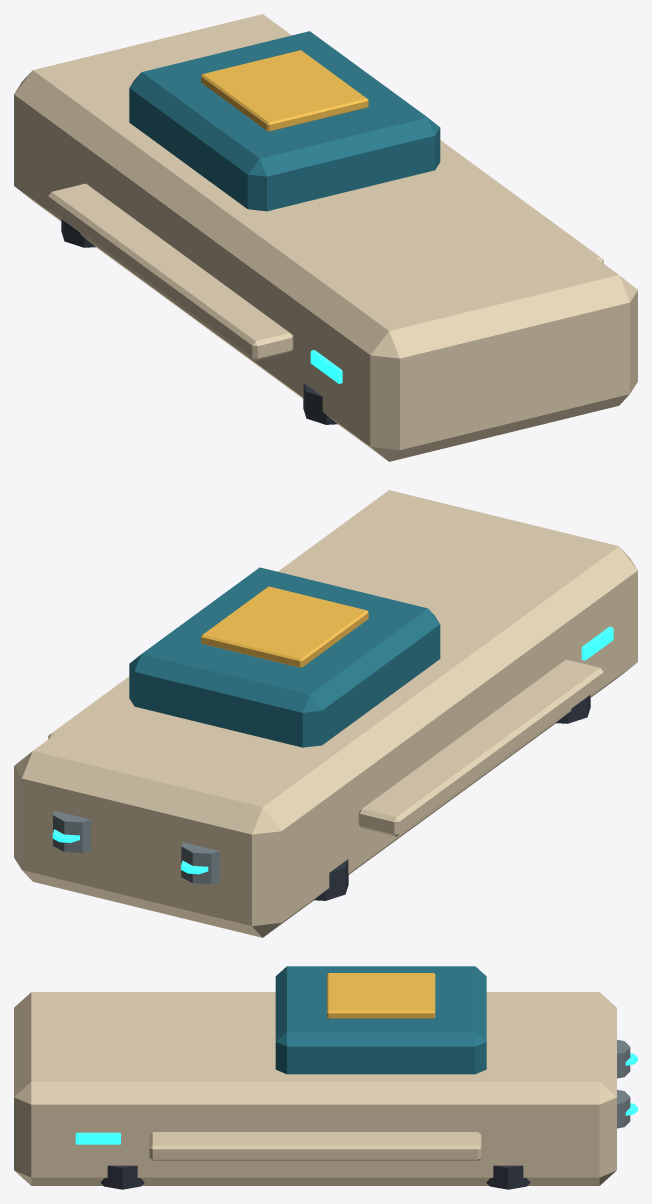
Rendered from vehicles_016_seed11.glb.
The picture shows the model from 3 angles, top to bottom: view 1: azimuth 30°, elevation 25°; view 2: azimuth 150°, elevation 25°; view 3: azimuth 270°, elevation 25°; orthographic projection. The views are drawn at different scales.
Parts seen in each view (by area): view 1: vehicles_016_seed11; view 2: vehicles_016_seed11; view 3: vehicles_016_seed11.
Part boxes in pixels (x1,y1,x2,y2): vehicles_016_seed11: (14,14,637,461); vehicles_016_seed11: (14,490,637,937); vehicles_016_seed11: (14,966,637,1189).
Bounding box in the file's own units: 3 × 1.52 × 5.78.
